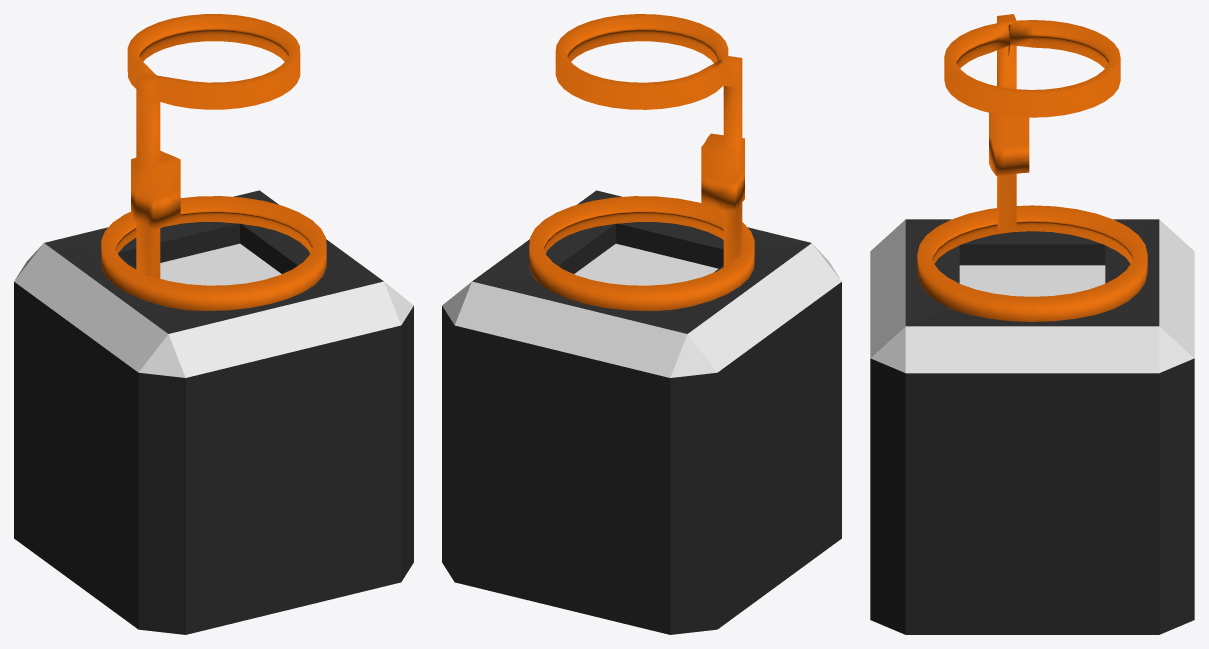
File: Analyzer.fbx
The picture shows the model from 3 angles, left to right: view 1: azimuth 30°, elevation 25°; view 2: azimuth 150°, elevation 25°; view 3: azimuth 270°, elevation 25°; orthographic projection.
Parts seen in each view (by area): view 1: Cube, Cube.002, Cylinder, Cylinder.001; view 2: Cube, Cube.002, Cylinder, Cylinder.001; view 3: Cube, Cube.002, Cylinder, Cylinder.001.
Part boxes in pixels (x1,y1,x2,y2): Cube: (14, 190, 413, 634); Cube.002: (14, 243, 413, 377); Cylinder: (127, 14, 300, 278); Cylinder.001: (101, 196, 326, 310); Cube: (442, 190, 841, 634); Cube.002: (442, 243, 841, 377); Cylinder: (555, 14, 744, 266); Cylinder.001: (529, 196, 754, 311); Cube: (870, 219, 1194, 634); Cube.002: (870, 219, 1194, 373); Cylinder: (944, 14, 1120, 231); Cylinder.001: (917, 205, 1147, 321).
Bounding box in the file's own units: 2 × 3.47 × 2.
